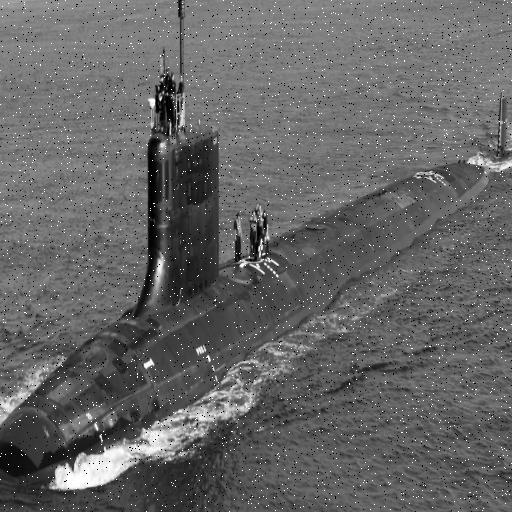submarine: (1, 1, 512, 501)
